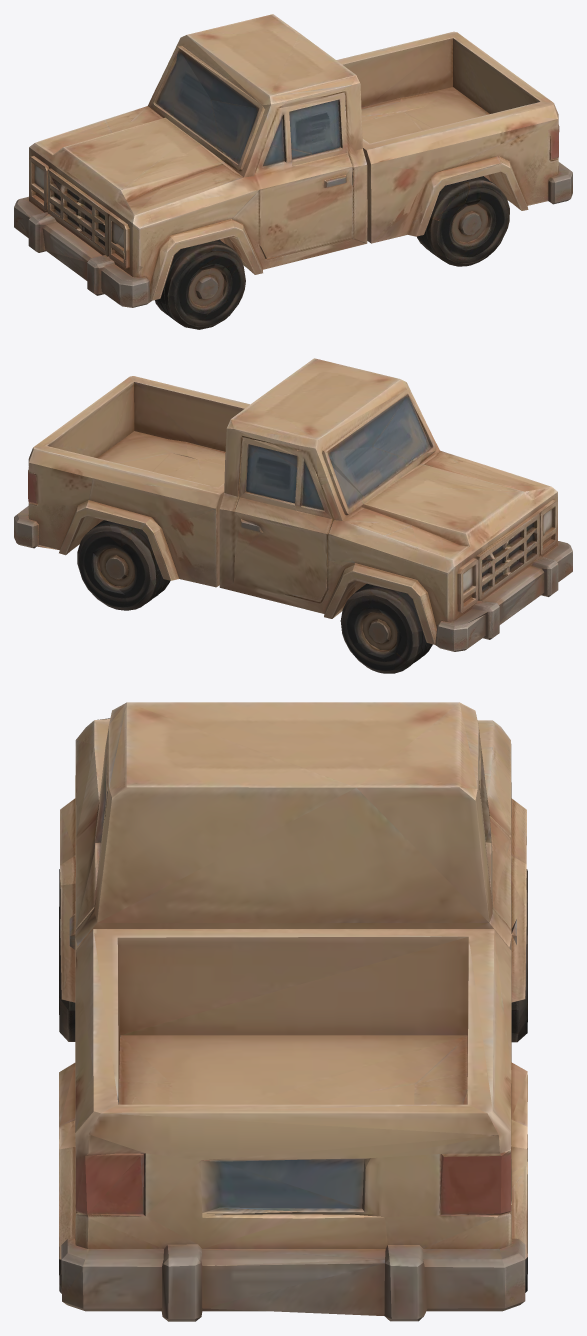
File: pickup.glb
The picture shows the model from 3 angles, top to bottom: view 1: azimuth 30°, elevation 25°; view 2: azimuth 150°, elevation 25°; view 3: azimuth 270°, elevation 25°; orthographic projection. The views are drawn at different scales.
Size of the model in its own units: 1.9 by 0.8041 by 0.836.
Materials: 1 (1 with a texture image).
